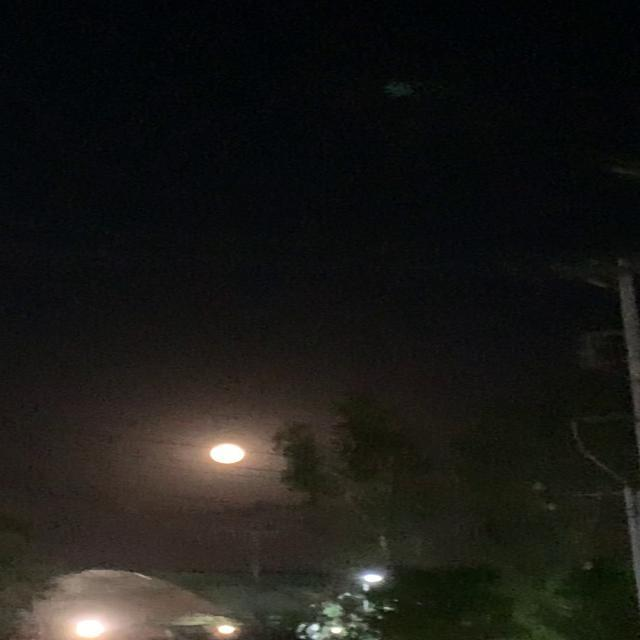moon: (215, 442, 258, 467)
